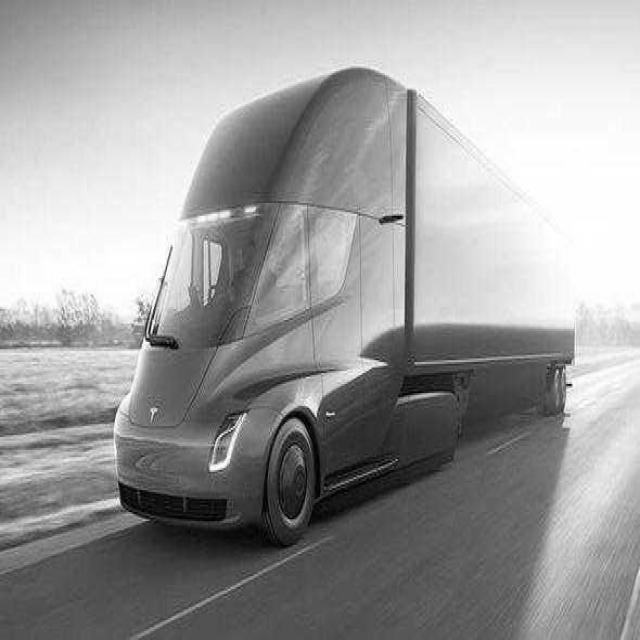Truck: (115, 68, 572, 542)
